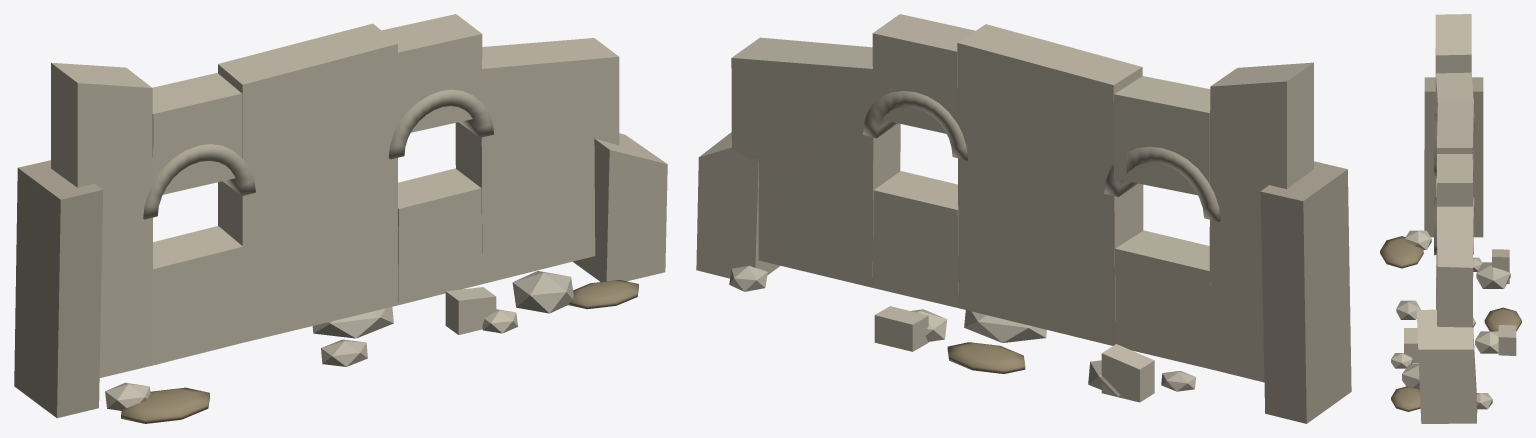
Rendered from priory_ruin_wall.glb.
3 views of the same model, side by side, from view 1: azimuth 30°, elevation 25°; view 2: azimuth 150°, elevation 25°; view 3: azimuth 270°, elevation 25° (orthographic). The views are drawn at different scales.
Parts seen in each view (by area): view 1: Ruin_Stone, Ruin_Debris; view 2: Ruin_Stone, Ruin_Debris; view 3: Ruin_Stone, Ruin_Debris.
Part boxes in pixels (x1,y1,x2,y2): Ruin_Stone: (14,14,667,418); Ruin_Debris: (105,271,638,423); Ruin_Stone: (696,14,1351,423); Ruin_Debris: (729,265,1195,402); Ruin_Stone: (1416,14,1483,423); Ruin_Debris: (1380,230,1521,411).
Size of the model in its own units: 7.26 by 3.7 by 2.17.
